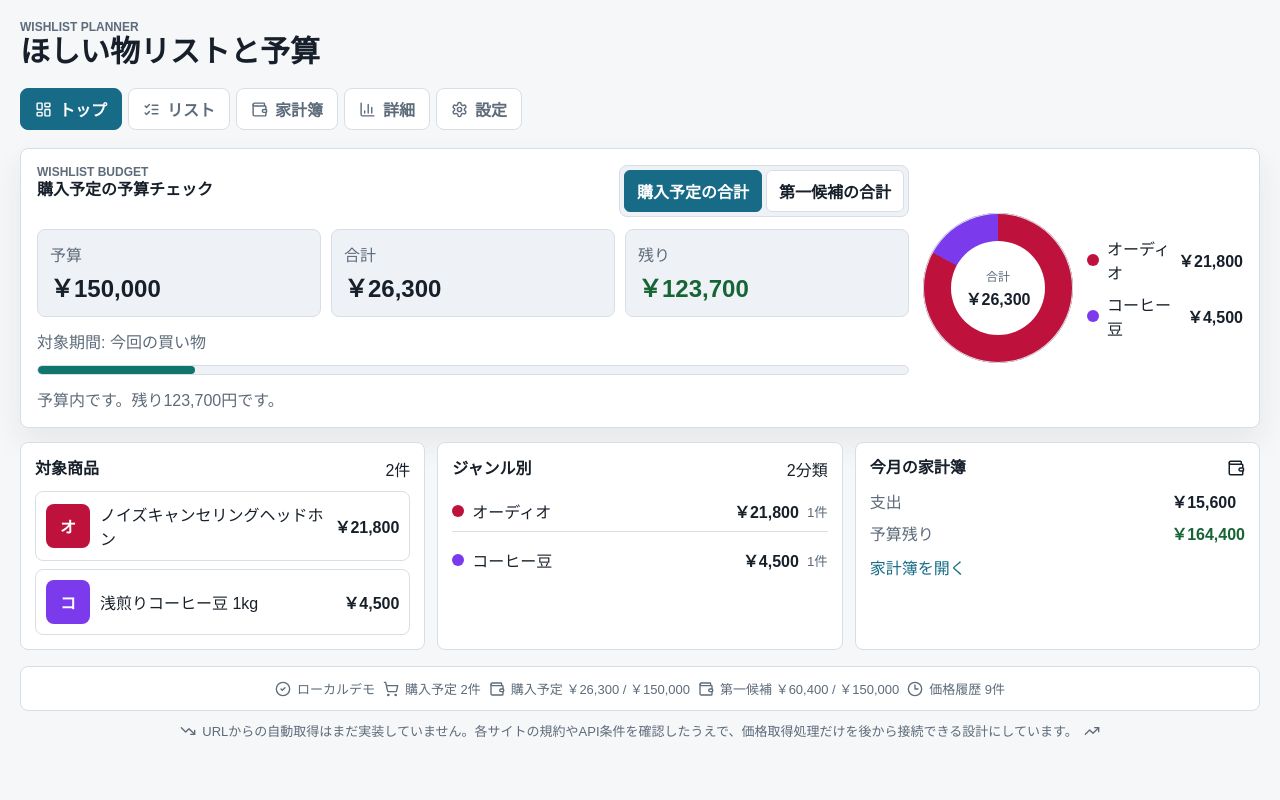
PriceApp › 家計簿タブで月次サマリーを確認し、支出を記録できる
Click the button with test id "tab-ledger": (287, 109) [236, 88, 338, 130]
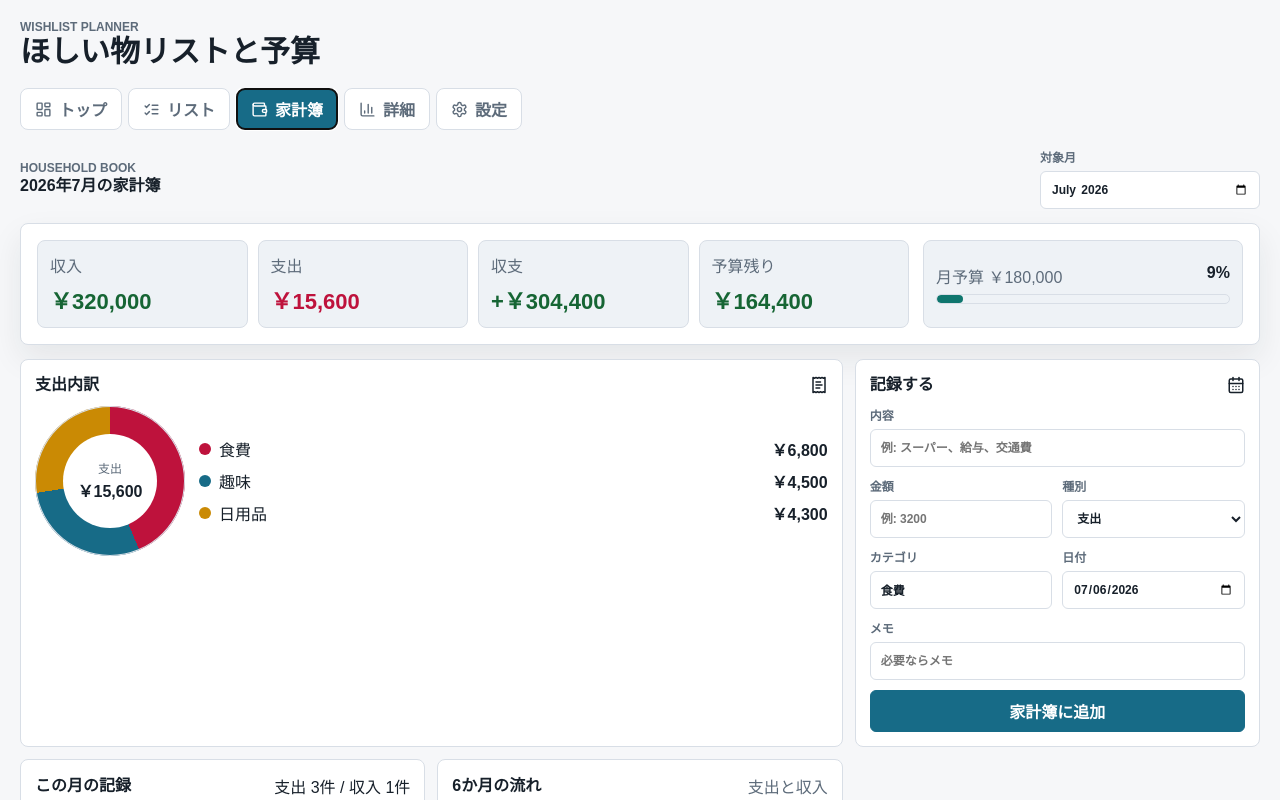
Expected: the heading "2026年7月の家計簿" is shown, [20, 175, 160, 196]
In the field with placeholder "例: スーパー、給与、交通費": (1057, 448) [870, 429, 1245, 467], type "ランチ"
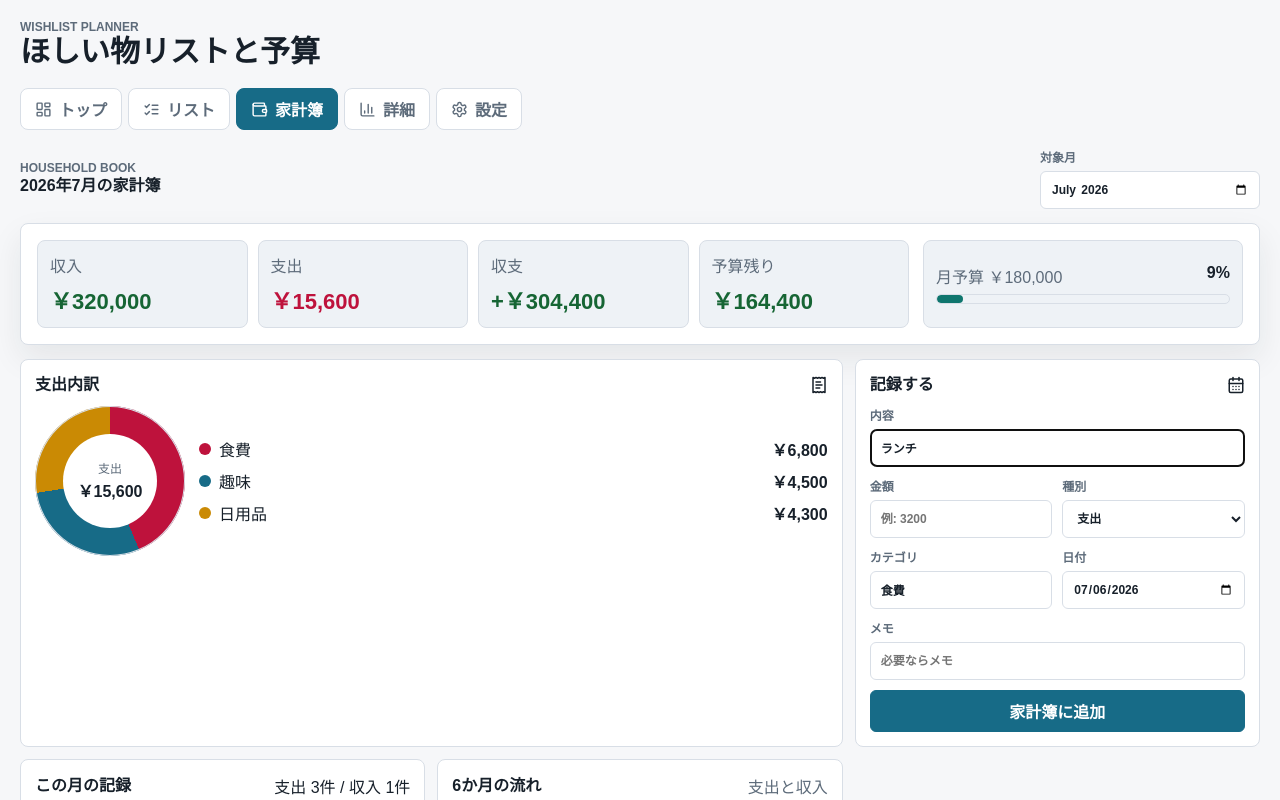
In the number field with placeholder "例: 3200": (961, 519) [870, 500, 1052, 538], type "1200"
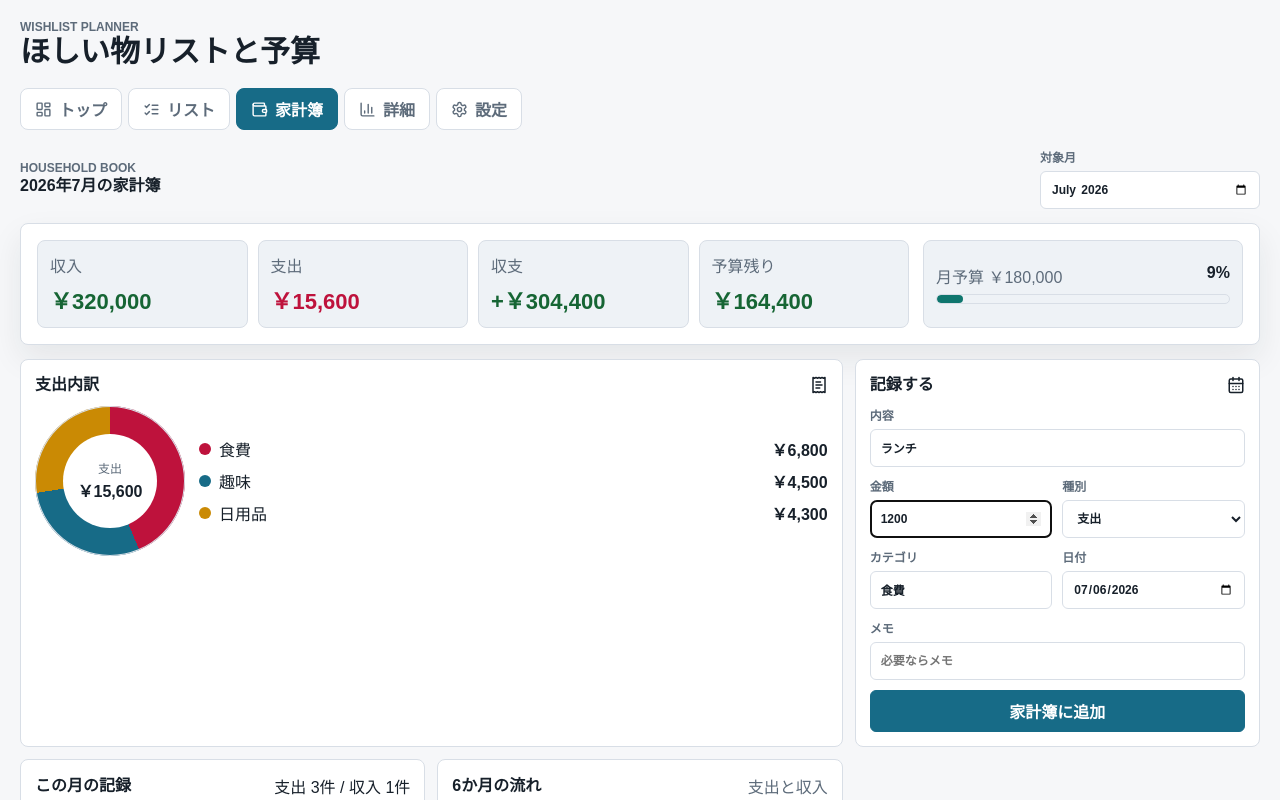
Click the button "家計簿に追加": (1057, 711) [870, 690, 1245, 732]
(page scrolled)
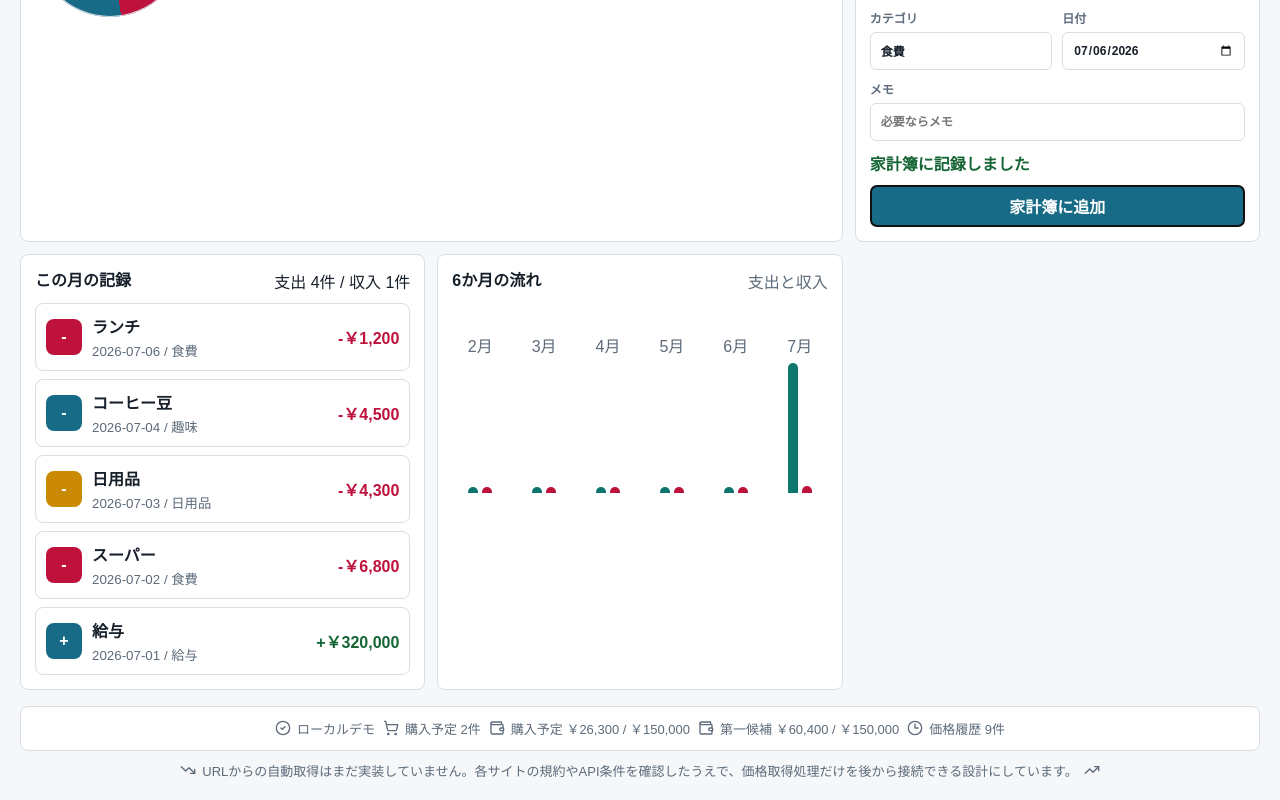
Expected: the text "家計簿に記録しました" is shown, [870, 156, 1030, 173]
Expected: the element with test id "ledger-entry-list" shows "ランチ", [92, 319, 140, 336]
